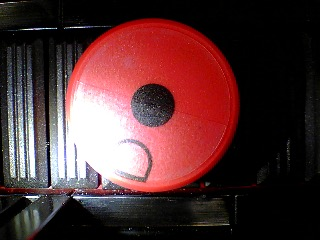BOHOMIPO1: (64, 18, 239, 193)
